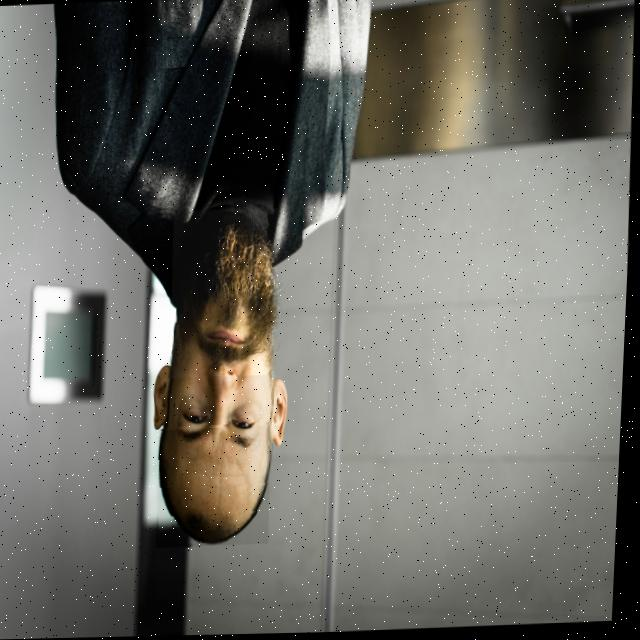beard: (174, 210, 279, 375)
hair: (162, 430, 274, 546)
